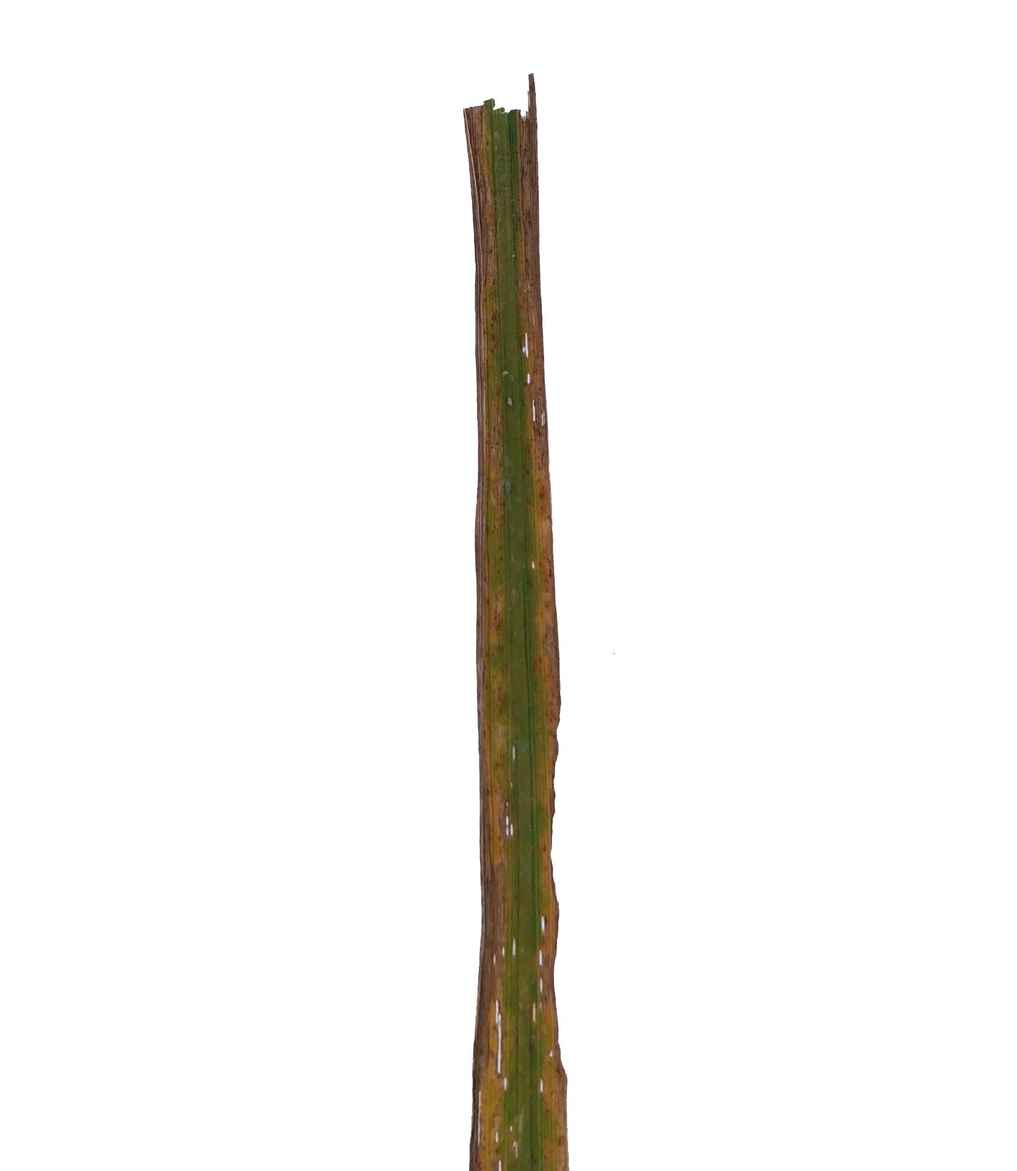Tungro: (462, 79, 571, 1171)
